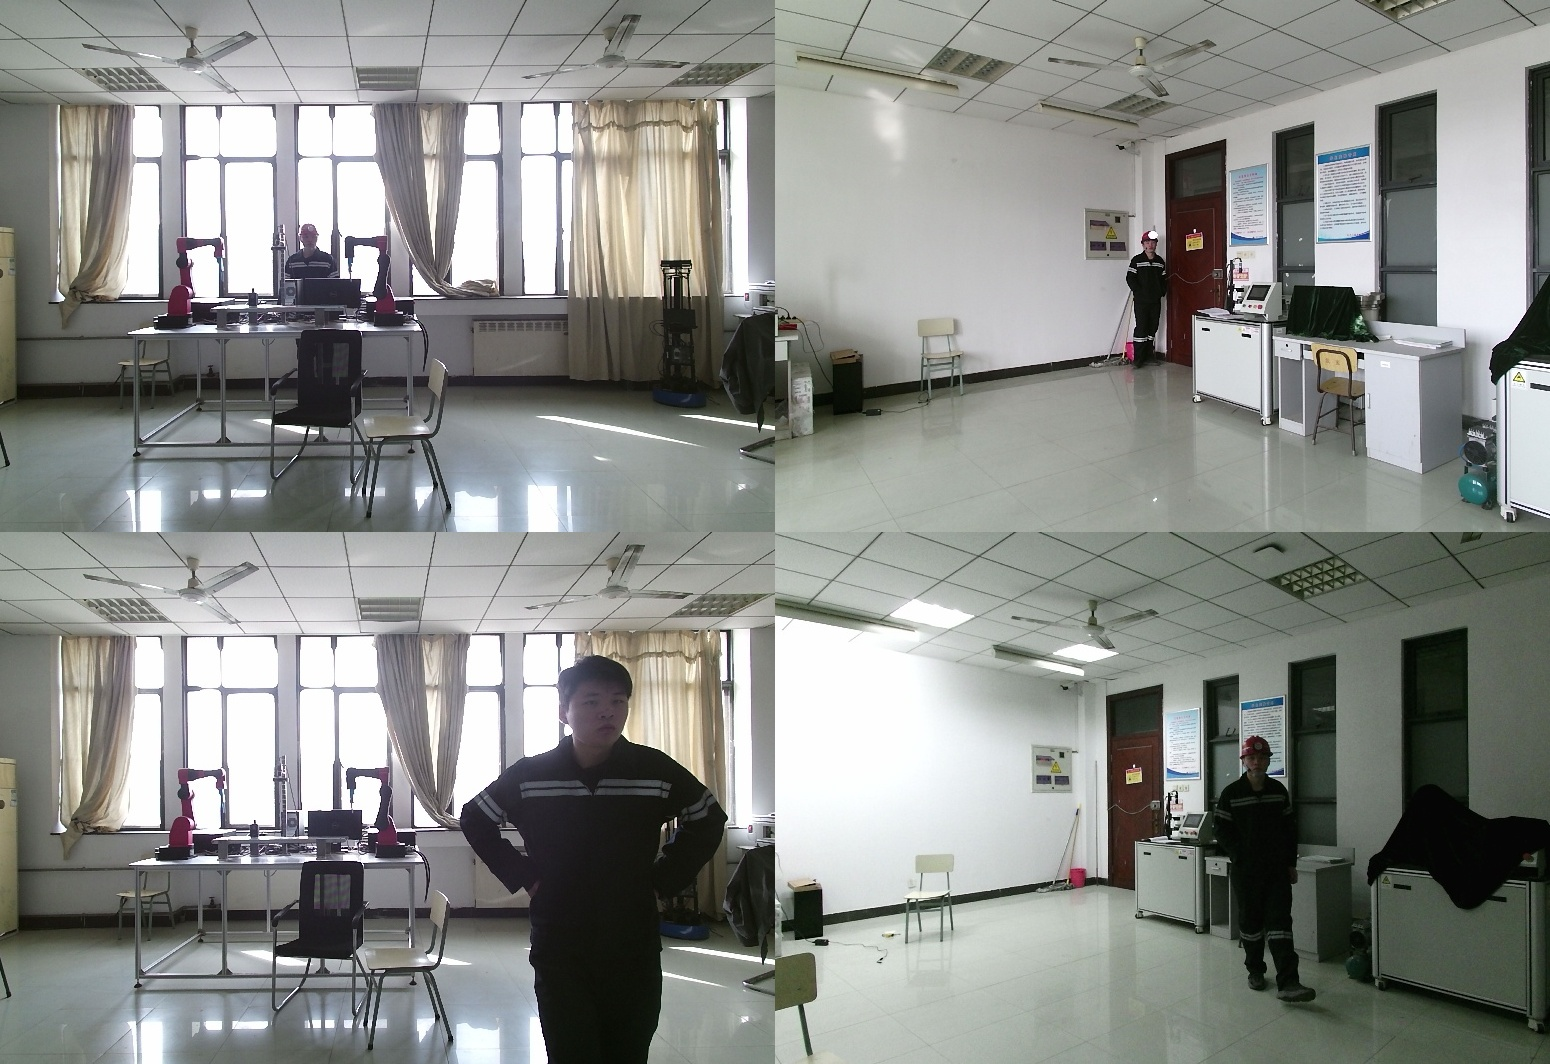person: (472, 660, 737, 1064), (1209, 735, 1320, 997), (1124, 232, 1167, 371), (283, 222, 342, 281)
